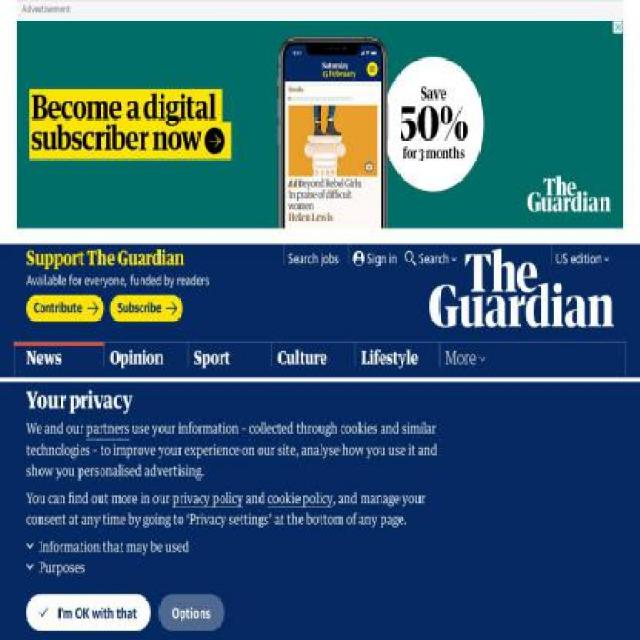button: (429, 248, 614, 328), (26, 594, 151, 631), (24, 535, 190, 557), (13, 342, 104, 378), (103, 342, 188, 378), (187, 342, 271, 378), (271, 342, 355, 378), (355, 342, 439, 378), (40, 378, 114, 413), (157, 594, 225, 631), (26, 432, 117, 456), (146, 378, 208, 413), (25, 295, 104, 322), (110, 295, 182, 322), (243, 378, 295, 413), (438, 342, 488, 378), (551, 244, 612, 273), (401, 244, 461, 273), (284, 244, 342, 273), (349, 244, 402, 273), (296, 378, 338, 413), (172, 489, 243, 508), (24, 556, 85, 578), (365, 378, 403, 413), (208, 378, 243, 413), (268, 489, 332, 508), (114, 378, 146, 413), (86, 418, 129, 439), (339, 378, 364, 413), (24, 378, 41, 413)
